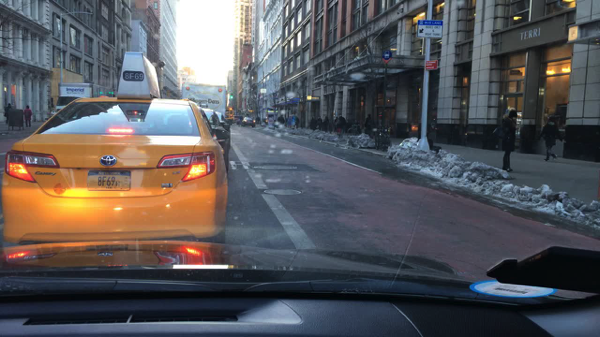bike: (373, 125, 387, 149), (382, 128, 393, 150), (346, 125, 361, 135)
car: (1, 51, 226, 246), (201, 107, 229, 173), (214, 110, 231, 149), (241, 117, 256, 128), (236, 118, 243, 125)
person: (491, 110, 520, 174), (536, 115, 565, 162), (22, 104, 34, 126), (362, 112, 374, 133), (3, 103, 13, 125), (337, 114, 347, 132), (321, 114, 330, 134), (331, 117, 341, 132), (307, 116, 316, 132), (415, 121, 422, 141), (315, 116, 324, 129), (277, 115, 286, 127), (293, 114, 300, 128), (255, 114, 260, 125)
rider: (352, 117, 362, 135)
traffic light: (229, 93, 234, 102)
traffic sign: (416, 19, 442, 37), (380, 49, 392, 62), (424, 59, 438, 70), (259, 86, 267, 95)
truck: (180, 81, 226, 116), (50, 84, 93, 112)
